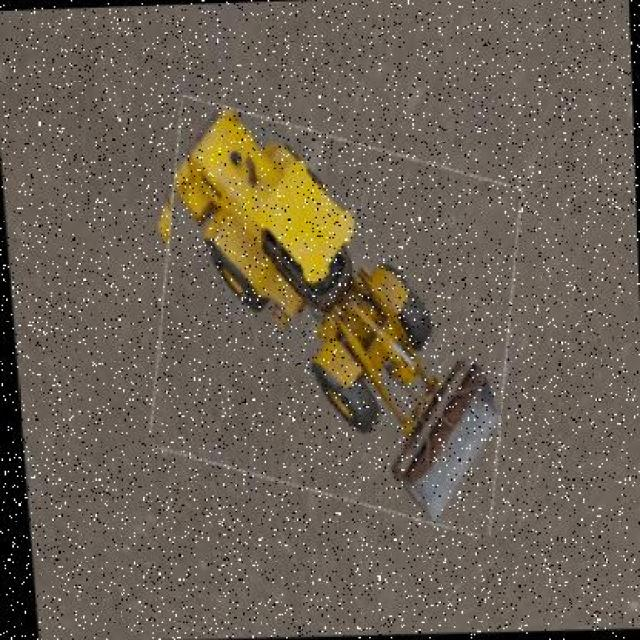buldozerpayloadergrader: (170, 96, 504, 532)
